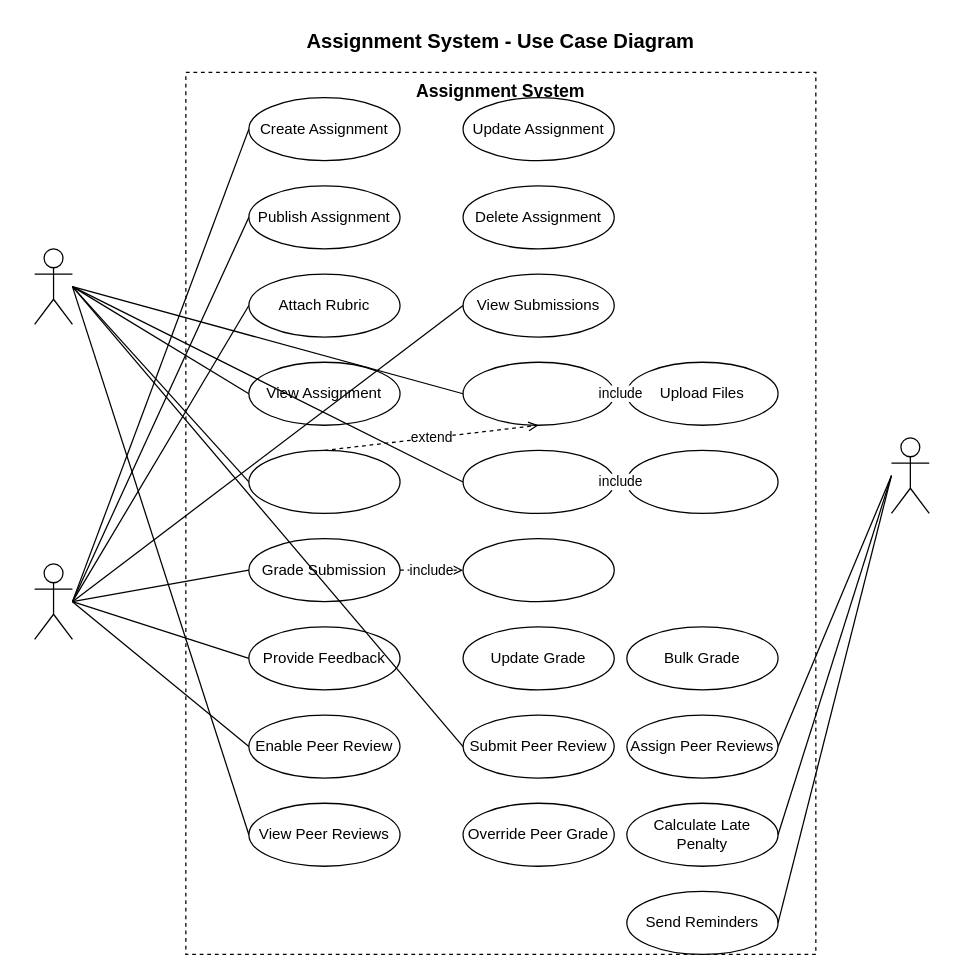
Image size: 956x977. Some labels were removed from this diagram. The shapes that lost their labels are listed below. From the top down, each one's centre as x and y in pixels, then its label:
At pixel 52 286: "Student".
At pixel 538 393: "Submit Assignment".
At pixel 324 481: "Resubmit Assignment".
At pixel 538 481: "View Grades".
At pixel 702 481: "View Feedback".
At pixel 909 475: "System".
At pixel 538 569: "Apply Rubric Grade".
At pixel 52 601: "Instructor".
